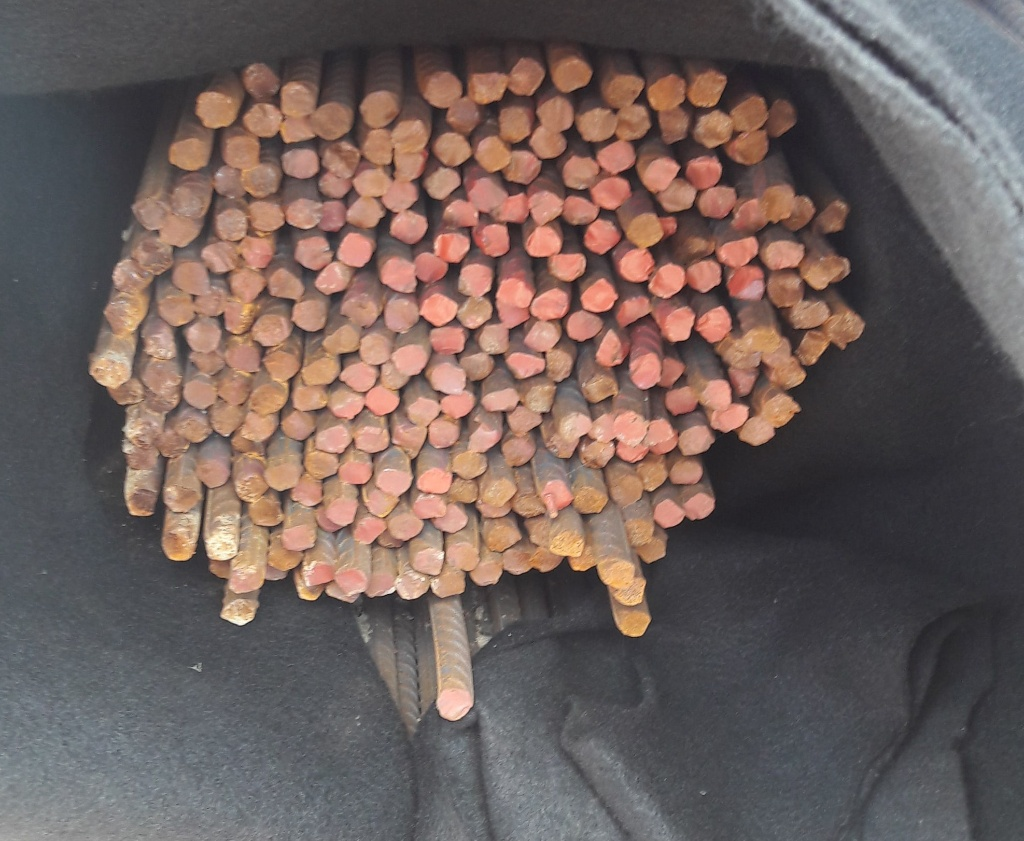dipstick: (132, 236, 175, 276), (826, 311, 867, 350), (359, 90, 399, 128), (195, 92, 238, 127), (694, 110, 733, 148), (688, 69, 727, 107), (805, 255, 847, 290), (537, 96, 574, 135), (103, 298, 142, 335), (551, 57, 592, 92), (321, 142, 360, 178), (729, 130, 769, 165), (174, 408, 215, 442), (314, 103, 351, 140), (696, 305, 733, 342), (583, 218, 621, 254), (656, 177, 695, 212), (244, 103, 284, 137), (112, 259, 152, 293), (765, 97, 798, 138), (717, 235, 759, 267), (251, 315, 294, 346), (614, 105, 651, 141), (243, 63, 281, 98), (762, 394, 801, 428), (131, 196, 171, 229), (474, 136, 510, 172), (172, 180, 209, 215), (160, 213, 197, 248), (184, 317, 221, 352), (508, 58, 543, 95), (505, 150, 542, 185), (768, 272, 805, 307), (643, 156, 680, 191), (419, 294, 457, 328), (580, 278, 618, 312), (656, 106, 690, 144), (241, 164, 280, 197), (467, 71, 506, 104), (598, 141, 637, 174), (142, 326, 181, 359), (435, 133, 471, 168), (429, 361, 465, 396), (650, 263, 685, 299), (337, 233, 374, 267), (794, 330, 831, 364), (730, 96, 767, 130), (593, 177, 631, 210), (685, 157, 723, 190), (606, 75, 645, 107), (726, 267, 765, 299), (280, 148, 320, 179), (168, 139, 209, 169), (381, 258, 417, 292), (580, 107, 616, 141), (627, 213, 663, 247), (686, 258, 722, 292), (649, 75, 685, 109), (383, 179, 420, 212), (498, 107, 531, 144), (788, 299, 830, 328), (173, 262, 211, 294), (224, 341, 262, 373), (697, 186, 735, 218), (144, 359, 182, 391), (279, 83, 318, 114), (530, 289, 570, 319), (447, 98, 481, 133), (563, 156, 598, 190), (764, 240, 805, 269), (123, 416, 164, 445), (160, 293, 196, 326), (531, 126, 567, 159), (759, 185, 792, 221), (732, 199, 768, 232), (295, 237, 332, 269), (424, 167, 461, 199), (784, 195, 816, 232), (391, 212, 429, 243), (469, 178, 507, 209), (671, 234, 714, 261), (428, 73, 462, 107), (458, 295, 493, 328), (619, 248, 654, 281), (213, 166, 249, 198), (229, 268, 265, 300), (391, 343, 427, 375), (528, 191, 564, 223), (250, 383, 287, 414), (597, 557, 634, 588), (678, 426, 716, 456), (209, 407, 248, 436), (225, 136, 259, 169), (394, 146, 428, 179), (270, 268, 304, 301), (361, 129, 393, 164), (202, 242, 237, 274), (223, 300, 255, 335), (457, 264, 492, 296), (91, 354, 126, 386), (348, 196, 384, 227), (263, 350, 299, 381), (436, 690, 472, 721), (631, 353, 662, 389), (525, 227, 562, 257), (562, 195, 599, 225), (616, 296, 653, 326), (162, 484, 201, 512), (386, 299, 419, 332), (329, 387, 363, 419), (614, 411, 646, 445), (316, 263, 351, 294), (317, 424, 352, 455), (243, 411, 279, 441), (434, 233, 471, 262), (300, 357, 338, 385), (548, 254, 586, 282), (710, 404, 748, 432), (469, 554, 502, 586), (817, 199, 849, 232), (393, 120, 427, 151), (287, 198, 321, 229), (432, 567, 466, 598), (414, 252, 449, 282), (324, 325, 360, 354), (279, 115, 316, 143), (353, 170, 390, 198), (248, 201, 285, 229), (215, 208, 247, 240), (541, 479, 573, 511), (240, 236, 273, 267), (291, 474, 324, 505), (407, 397, 440, 428), (636, 461, 669, 492), (699, 379, 732, 410), (293, 301, 327, 331), (568, 312, 602, 342), (430, 326, 465, 355), (432, 503, 467, 532), (182, 381, 218, 409), (364, 386, 400, 414), (340, 363, 376, 391), (341, 298, 377, 326), (443, 200, 479, 228), (664, 306, 692, 342), (221, 599, 258, 626), (507, 352, 544, 379), (741, 413, 773, 444), (773, 359, 805, 390), (269, 540, 302, 570), (480, 224, 510, 257), (526, 321, 560, 350), (582, 374, 617, 402), (377, 469, 414, 495), (727, 365, 758, 396), (218, 375, 250, 405), (250, 498, 284, 526), (460, 353, 494, 381), (665, 386, 699, 414), (264, 463, 299, 490), (502, 439, 537, 466), (597, 330, 624, 365), (281, 411, 313, 440), (412, 546, 444, 575), (142, 391, 179, 416), (395, 572, 428, 600), (195, 288, 229, 315), (580, 440, 614, 467), (660, 356, 687, 390), (282, 523, 317, 549), (354, 427, 389, 453), (417, 467, 452, 493), (497, 280, 532, 306), (291, 385, 327, 410), (389, 515, 425, 540), (743, 328, 779, 353), (485, 478, 516, 507), (636, 535, 667, 564), (655, 499, 686, 528), (610, 476, 642, 504), (236, 473, 269, 500), (230, 567, 264, 593), (453, 452, 487, 478), (508, 406, 542, 432), (574, 488, 608, 514), (670, 460, 704, 486), (318, 173, 353, 198), (190, 350, 225, 375), (450, 542, 480, 571), (764, 336, 793, 366), (321, 201, 349, 232), (199, 461, 230, 489), (162, 533, 193, 561), (544, 351, 572, 382), (684, 493, 715, 521), (157, 431, 189, 458), (488, 525, 521, 551), (483, 387, 517, 412), (110, 378, 144, 403), (396, 425, 425, 454), (429, 419, 458, 448), (480, 325, 509, 354), (568, 543, 597, 572), (359, 334, 389, 362), (205, 533, 237, 559), (305, 452, 337, 478), (531, 545, 563, 571), (446, 478, 479, 503), (125, 444, 159, 468), (326, 497, 355, 525), (501, 194, 529, 223), (525, 386, 556, 412), (619, 612, 650, 638), (367, 491, 399, 516), (440, 393, 472, 418), (614, 580, 646, 605), (560, 413, 592, 438), (126, 492, 158, 517), (551, 533, 584, 557), (727, 344, 760, 368), (625, 518, 653, 546), (503, 547, 532, 574), (515, 491, 544, 518), (496, 305, 530, 328), (548, 433, 579, 458), (336, 569, 366, 594), (354, 518, 384, 543), (645, 420, 675, 445), (381, 361, 408, 388), (590, 414, 617, 441), (415, 494, 445, 518), (469, 424, 499, 448), (339, 462, 371, 484), (477, 499, 513, 518), (315, 506, 341, 532), (304, 562, 333, 585), (617, 441, 648, 462), (369, 575, 394, 597), (652, 432, 677, 454), (529, 519, 550, 544), (208, 560, 230, 579), (301, 584, 323, 601)
